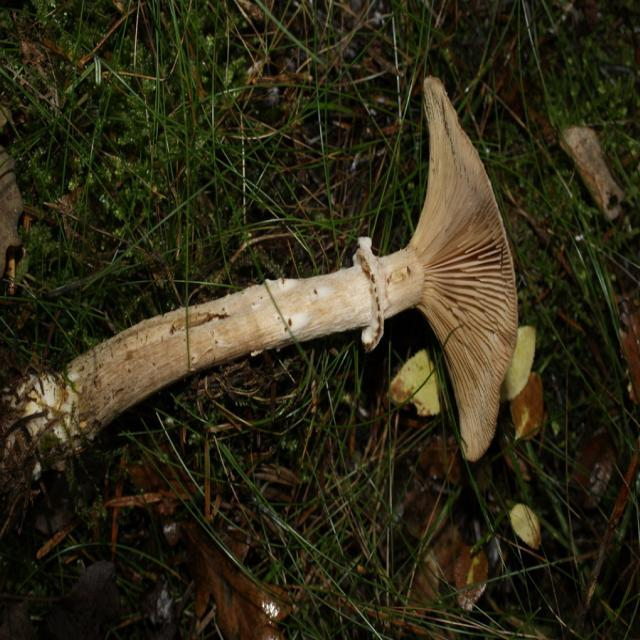Armillaria mellea: (20, 77, 520, 535)
